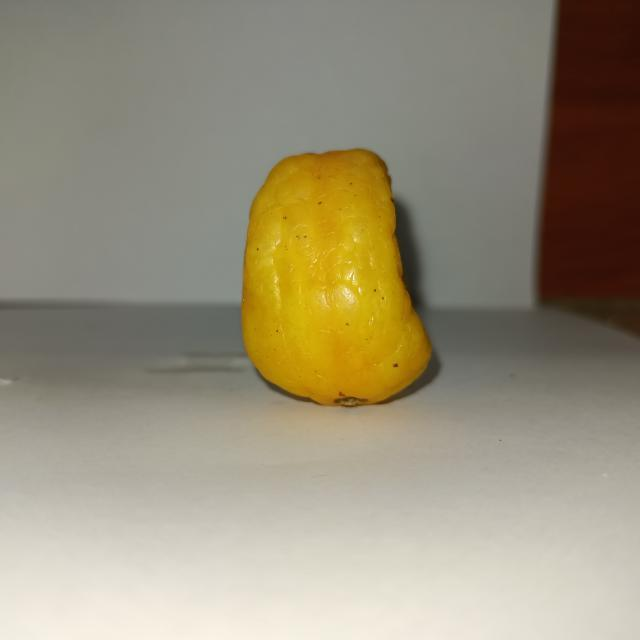Red: (239, 146, 433, 407)
